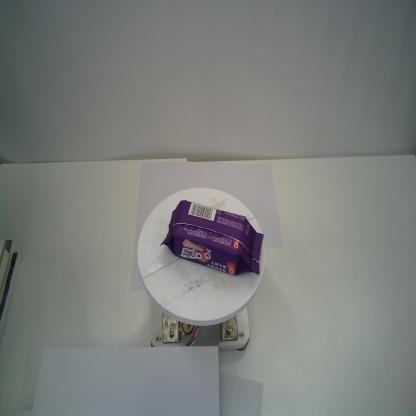Dessert: (160, 200, 265, 276)
